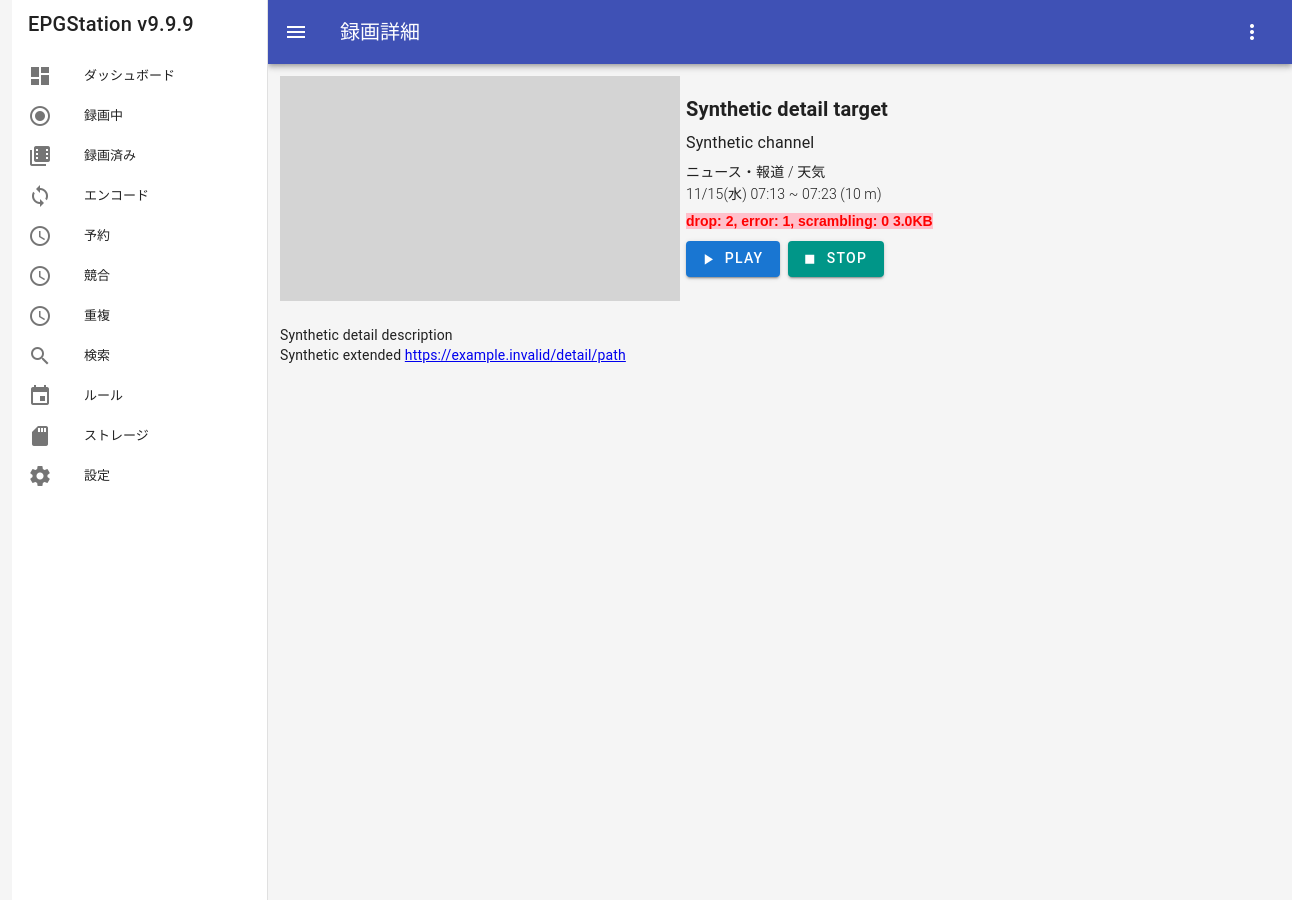
Test: Recorded detail failure snackbars and handoff edge branches › [AC 2.20] shows a failure snackbar when stop encode fails
Expected: the element with test id "recorded-detail-page" is shown, [280,76,933,363]
Click the button "stop".
click(836, 258)  # box [788,240,884,276]
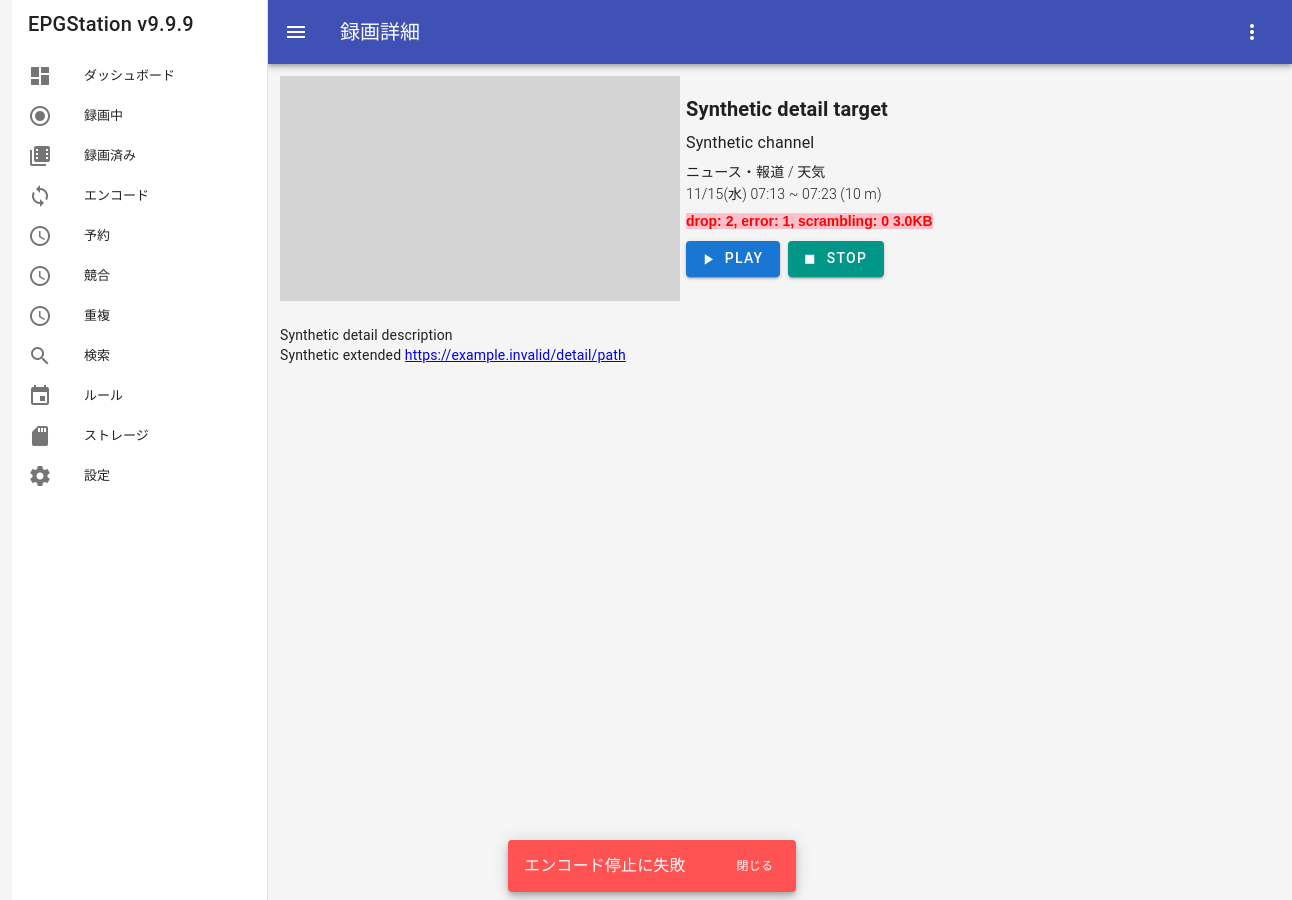
Now the text "エンコード停止に失敗" is shown, box [524,856,686,875]
